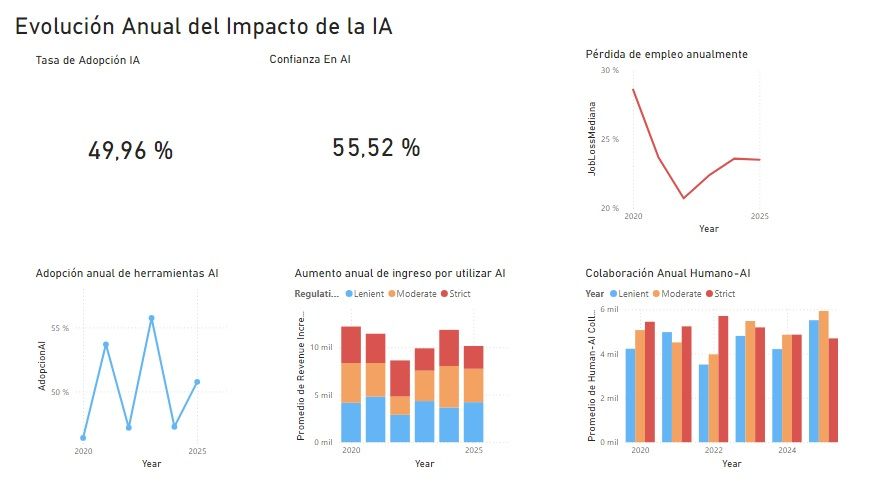

This screenshot's page, from the dashboard's own definition file:
{"tool":"powerbi","page":{"name":"Evolución Anual","canvas":[1280,720],"ordinal":0},"visuals":[{"type":"lineChart","title":" Adopción anual de herramientas AI","fields":{"Category":["Global_AI_Content_Impact_Dataset.Year"],"Y":["Global_AI_Content_Impact_Dataset.AdopcionAI"]},"box":[48.1,382.8,286.6,295.5],"z":0},{"type":"lineChart","title":"Pérdida de empleo anualmente","fields":{"Category":["Global_AI_Content_Impact_Dataset.Year"],"Y":["Global_AI_Content_Impact_Dataset.JobLossMediana"]},"box":[834.4,70.6,307.8,272.5],"z":1000},{"type":"columnChart","title":"Aumento anual de ingreso por utilizar AI","fields":{"Category":["Global_AI_Content_Impact_Dataset.Year"],"Y":["Avg(Global_AI_Content_Impact_Dataset.Revenue Increase Due to AI (%))"],"Series":["Global_AI_Content_Impact_Dataset.Regulation Status"]},"box":[417.9,382.6,317.6,295.1],"z":2000},{"type":"clusteredColumnChart","title":"Colaboración Anual Humano-AI ","fields":{"Category":["Global_AI_Content_Impact_Dataset.Year"],"Y":["Avg(Global_AI_Content_Impact_Dataset.Human-AI Collaboration Rate (%))"],"Series":["Global_AI_Content_Impact_Dataset.Regulation Status"]},"box":[834.4,382.6,371.3,295.1],"z":3000},{"type":"card","title":"Confianza En AI","fields":{"Values":["Global_AI_Content_Impact_Dataset.PromConfianza"]},"box":[382.6,77.6,313.4,247.1],"z":5000},{"type":"textbox","box":[18.4,15.5,573.2,55.1],"z":6000},{"type":"card","title":"Tasa de Adopción IA","fields":{"Values":["Global_AI_Content_Impact_Dataset.AdopcionAI"]},"box":[48.1,78.3,281.3,252.8],"z":7000}]}

Visuals, with their boxes in screenshot pixels (x1, y1, x2, y2), scaled from the page's 1280x720 canvas onto the 881x499 screenshot:
" Adopción anual de herramientas AI" lineChart: <bbox>33, 265, 230, 470</bbox>
"Pérdida de empleo anualmente" lineChart: <bbox>574, 49, 786, 238</bbox>
"Aumento anual de ingreso por utilizar AI" columnChart: <bbox>288, 265, 506, 470</bbox>
"Colaboración Anual Humano-AI " clusteredColumnChart: <bbox>574, 265, 830, 470</bbox>
"Confianza En AI" card: <bbox>263, 54, 479, 225</bbox>
textbox: <bbox>13, 11, 407, 49</bbox>
"Tasa de Adopción IA" card: <bbox>33, 54, 227, 229</bbox>
